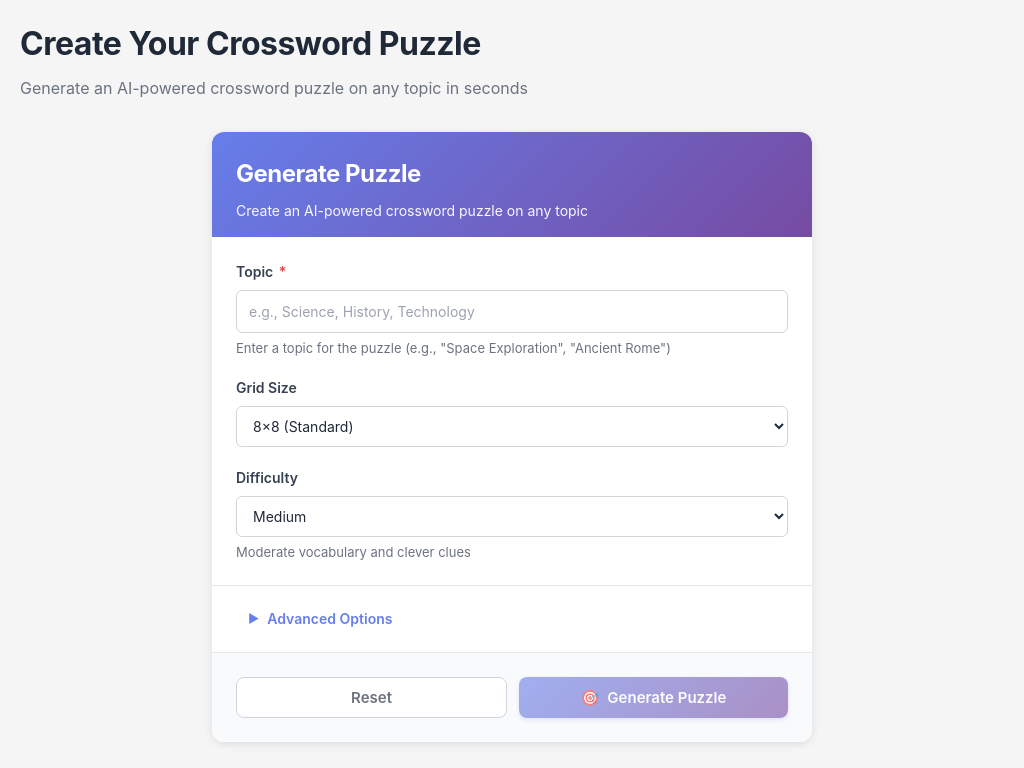
PuzzleGenerator Component › Puzzle Generation › should show success state after generation
Step 1. Type "Science" into the field with test id "topic-input" → (512, 312), box [236,290,788,333]
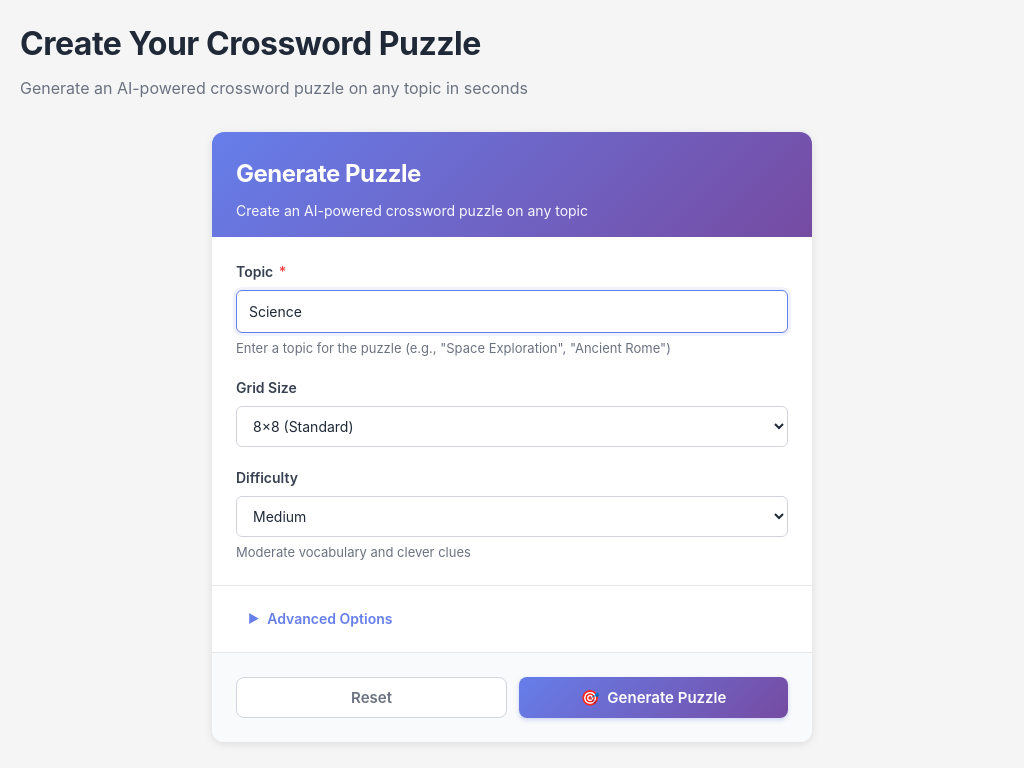
Step 2. Click the button with test id "submit-button" → (654, 698), box [519,677,788,718]
(page scrolled)
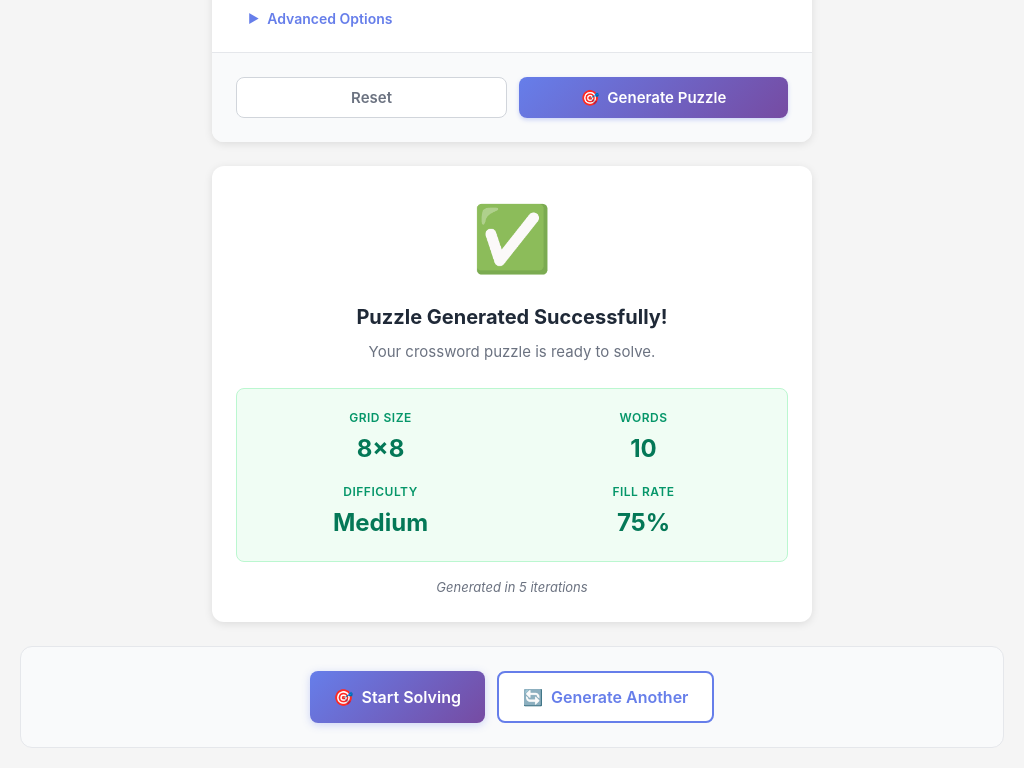
Expected: the element with test id "success-state" is shown, [236,190,788,598]
